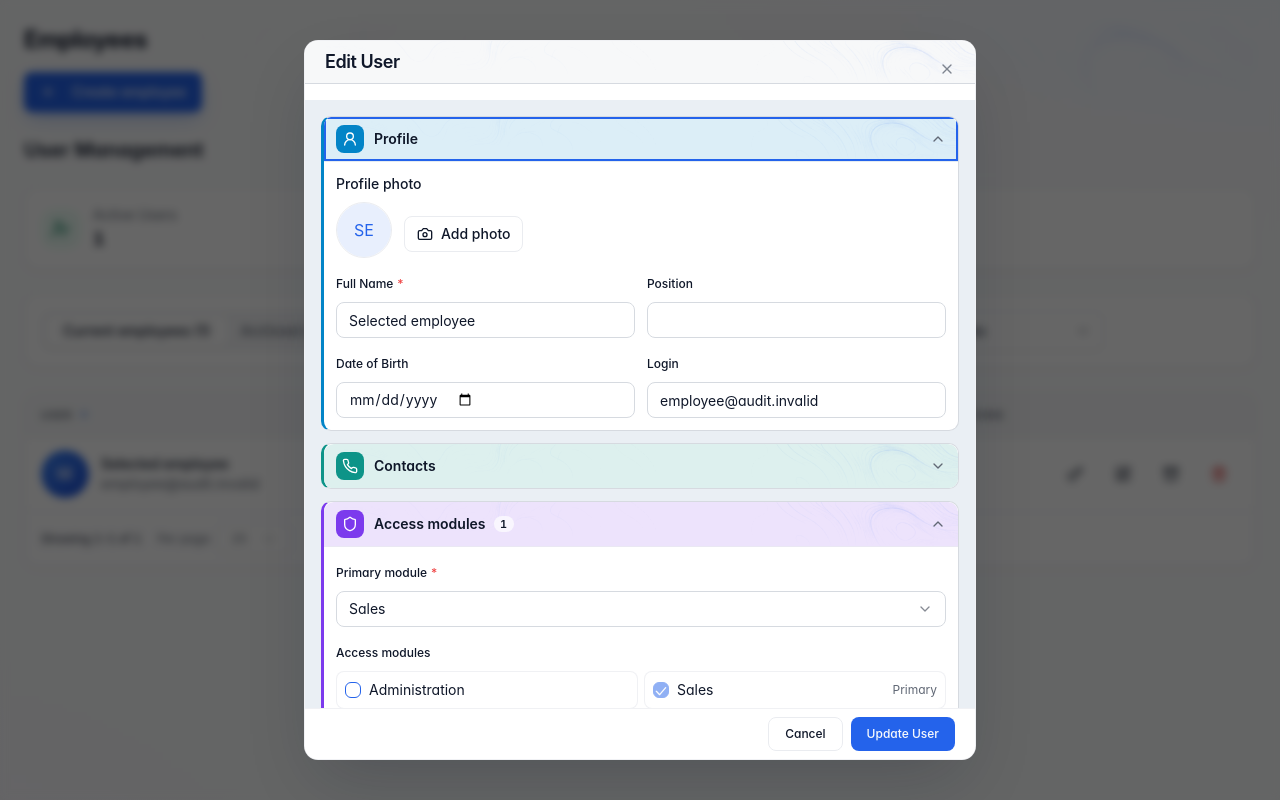
Test: reveals the folded sales section and focuses the required funnel selector
The width and height of the screenshot is (1280, 800).
Click the button "Update User": (903, 734) top-left (851, 717), bottom-right (955, 751)
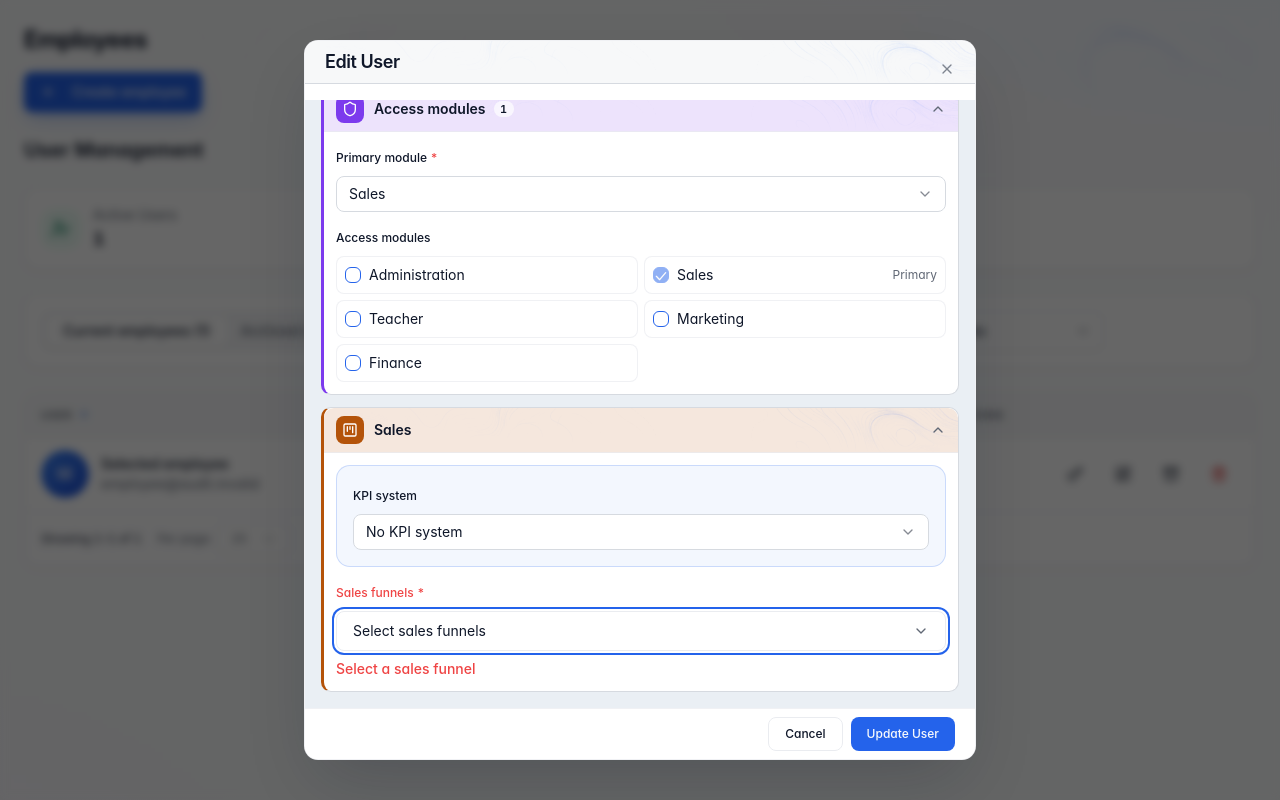
Result: the text "Select a sales funnel" is shown at top-left (336, 660), bottom-right (476, 677)
